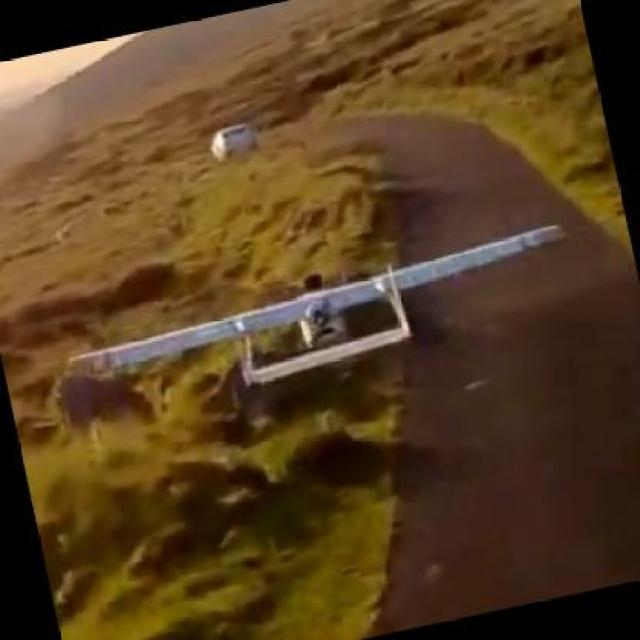iha: (55, 213, 571, 397)
